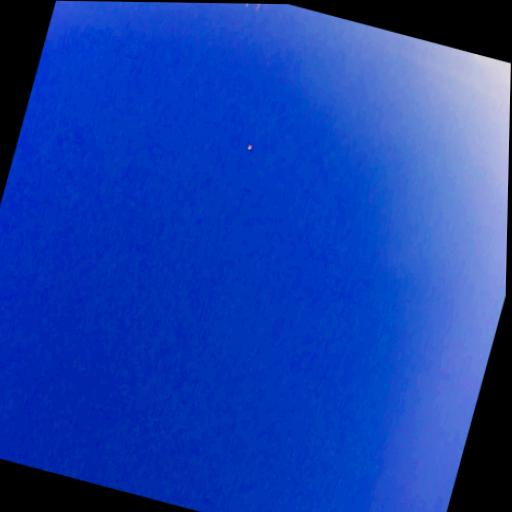drones: (246, 142, 254, 152)
